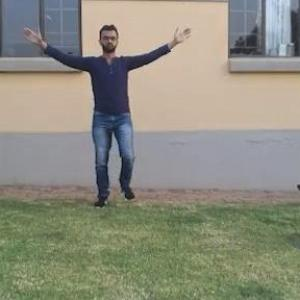takeoff: (26, 19, 194, 208)
